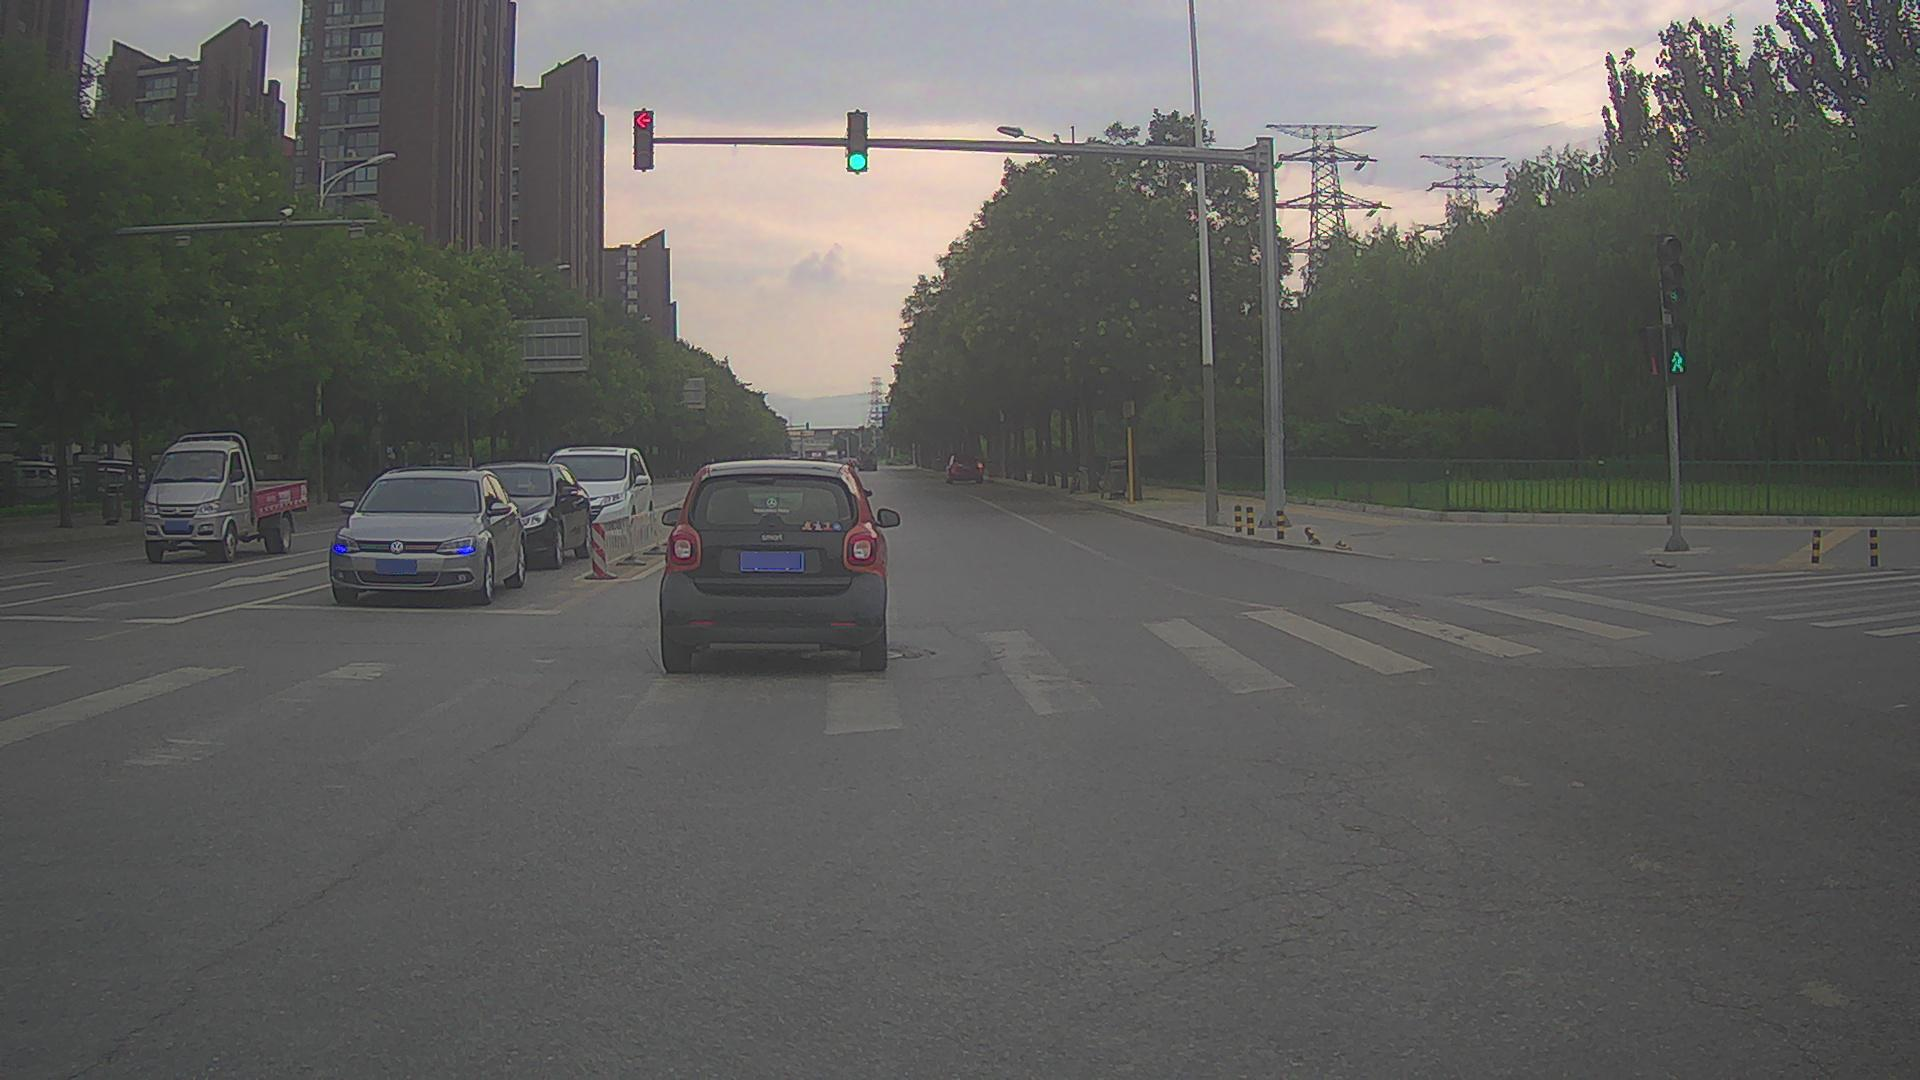car: (659, 458, 901, 674), (328, 465, 526, 607), (453, 464, 592, 571), (547, 446, 654, 549), (947, 451, 986, 482)
ignore: (95, 458, 143, 494), (789, 449, 830, 460)
pedestrian: (394, 440, 407, 480), (385, 441, 396, 480)
truck: (144, 432, 308, 564), (857, 446, 879, 472)
van: (5, 461, 79, 504)
